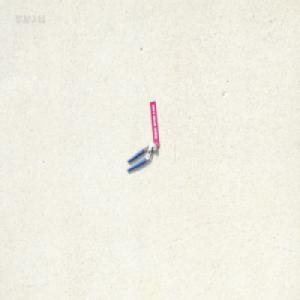Label: (149, 100, 159, 149)
Pliers: (126, 141, 157, 172)
